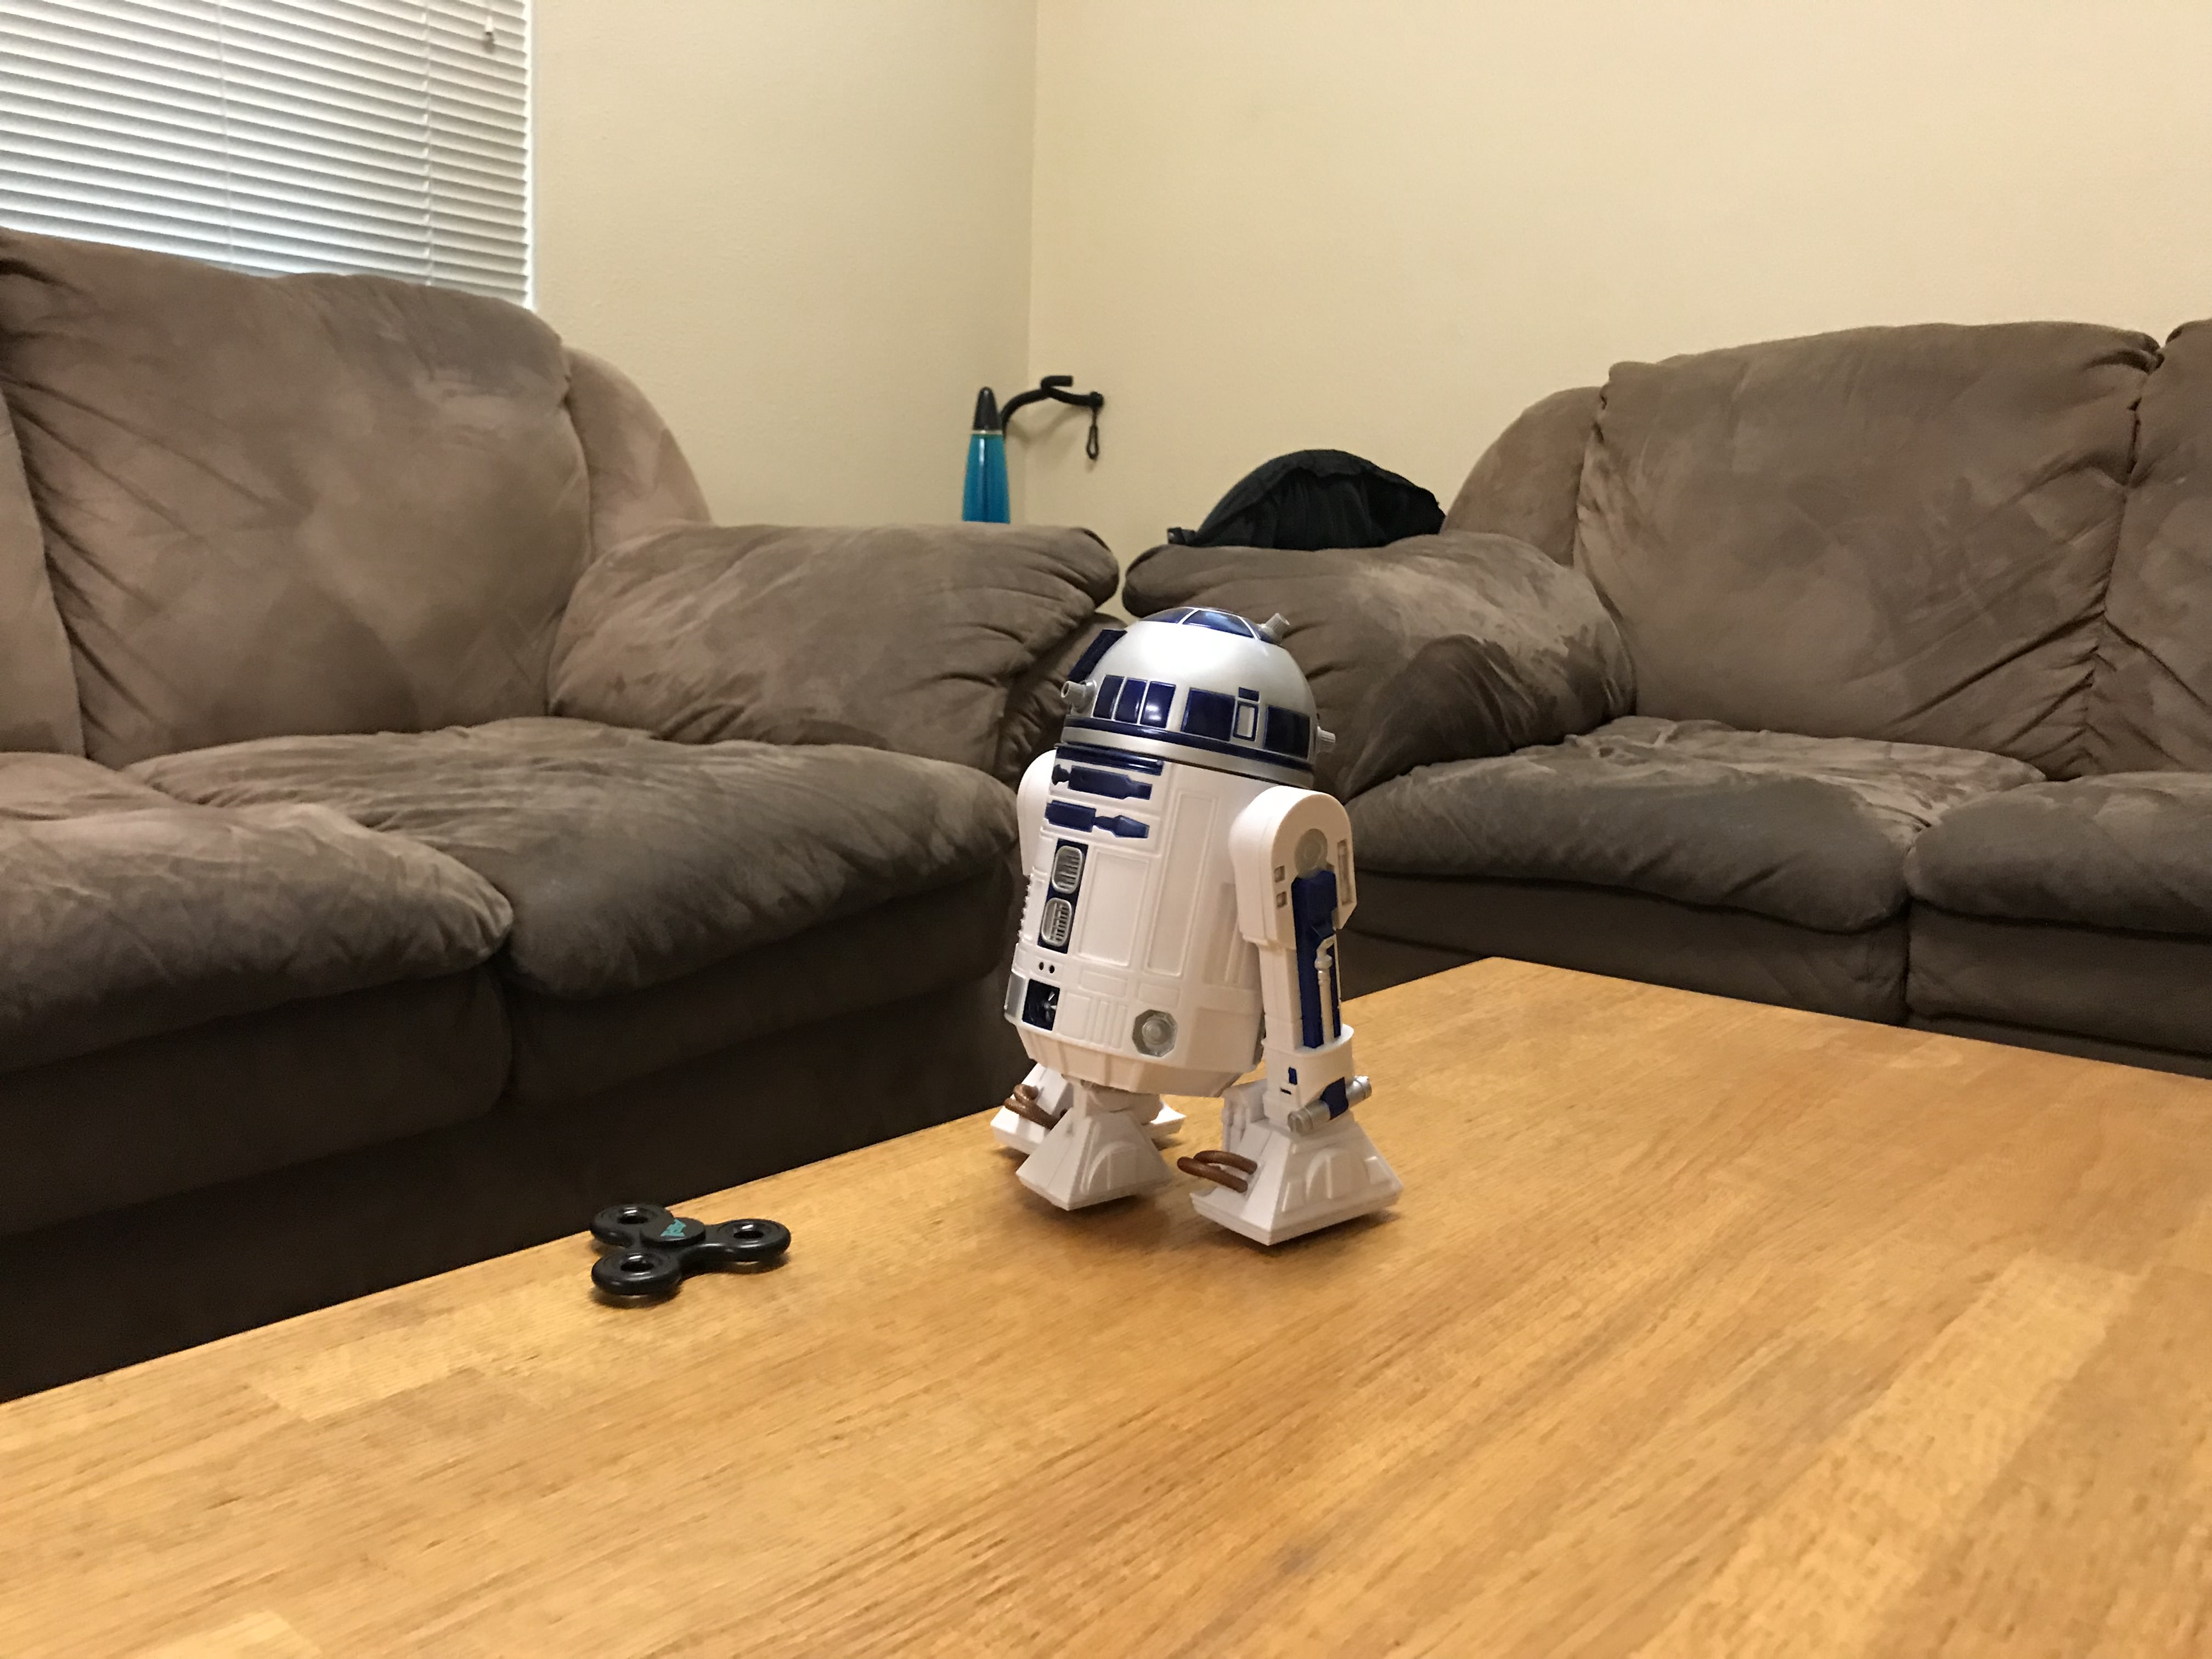r2d2: (993, 605, 1404, 1248)
